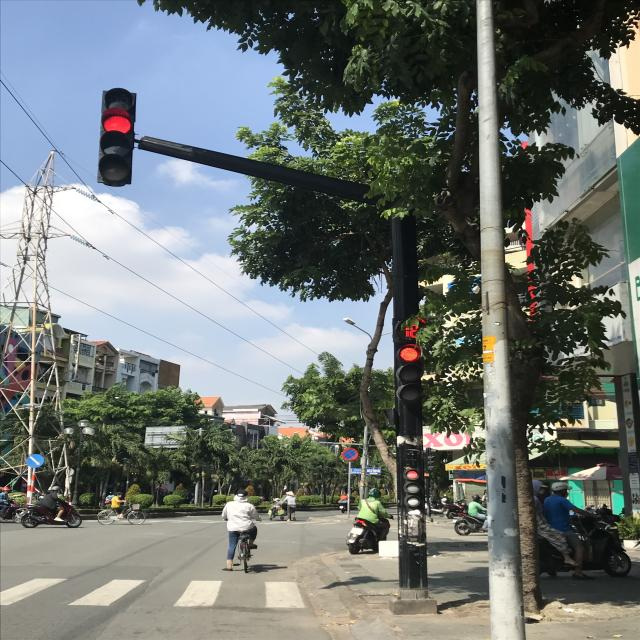Red: (95, 110, 138, 186), (393, 343, 427, 410), (398, 464, 427, 510)
